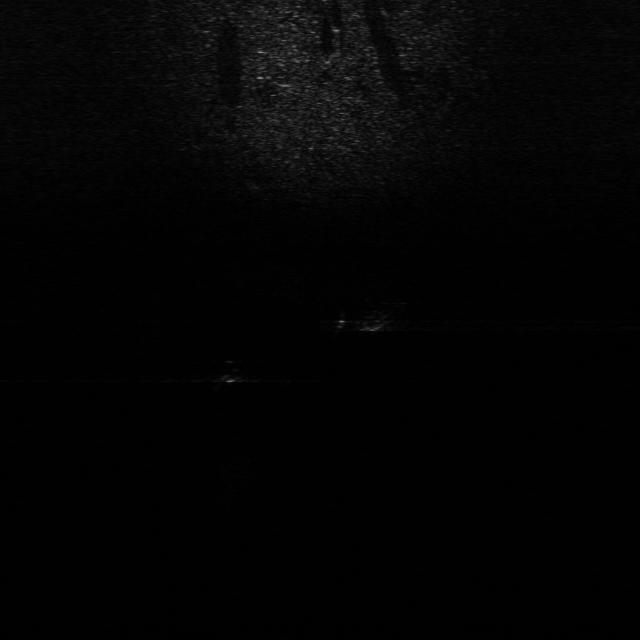ball: (212, 353, 252, 389)
human body: (334, 298, 412, 335)
